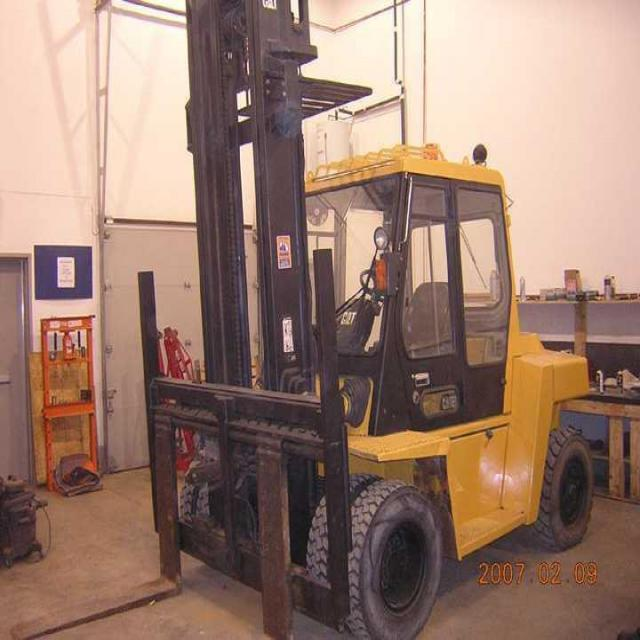Chariot elevateur: (11, 0, 594, 639)
